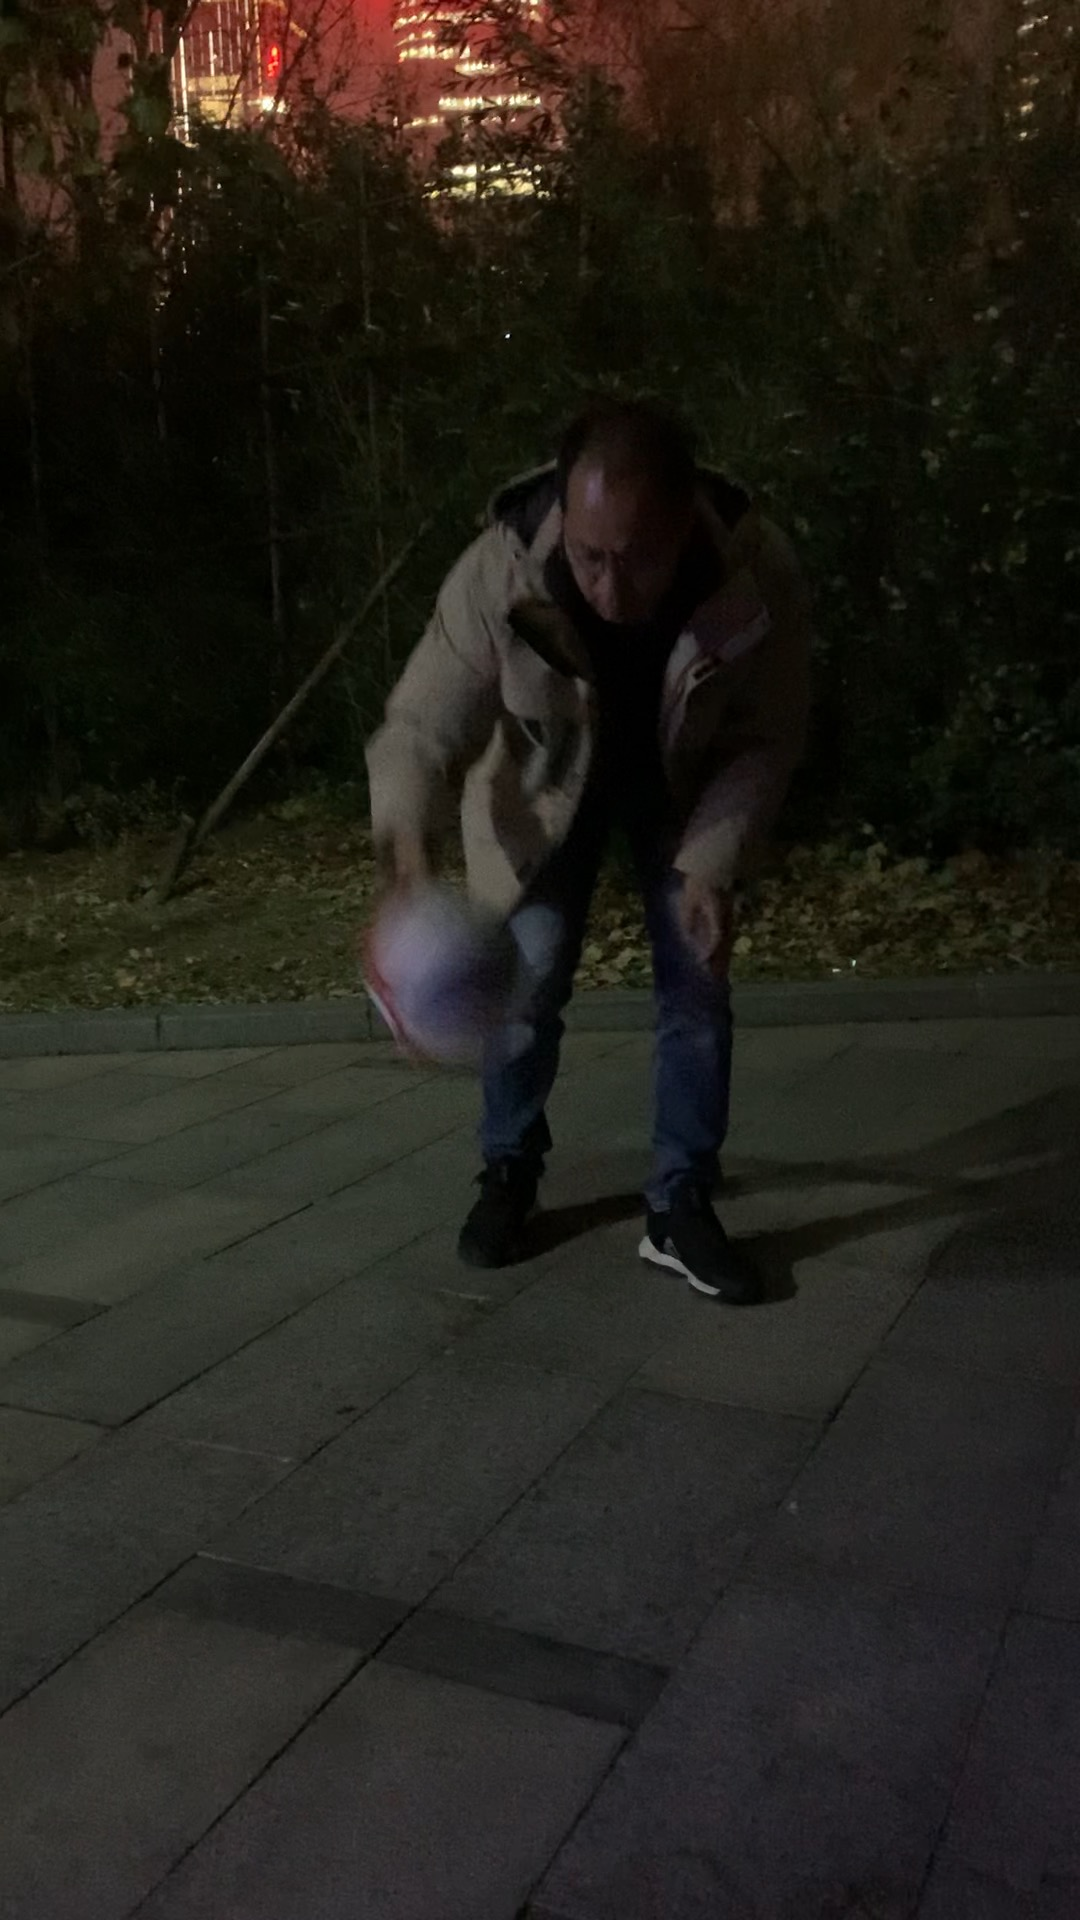ball: (373, 894, 531, 1065)
